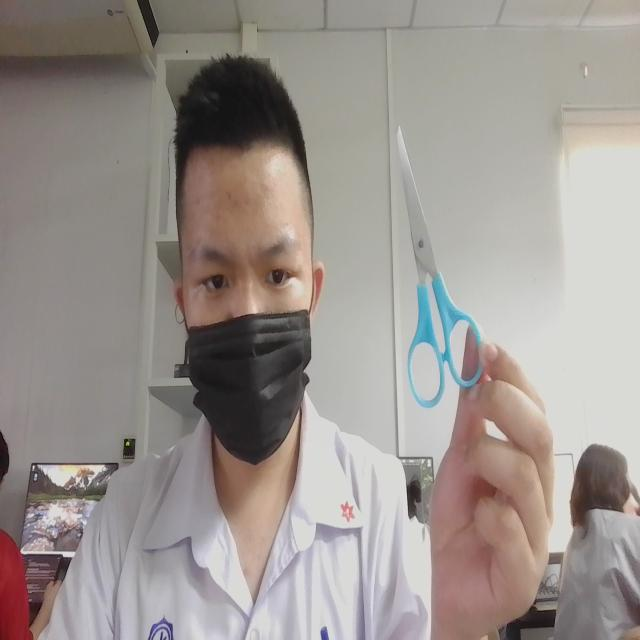scissors: (382, 110, 479, 413)
